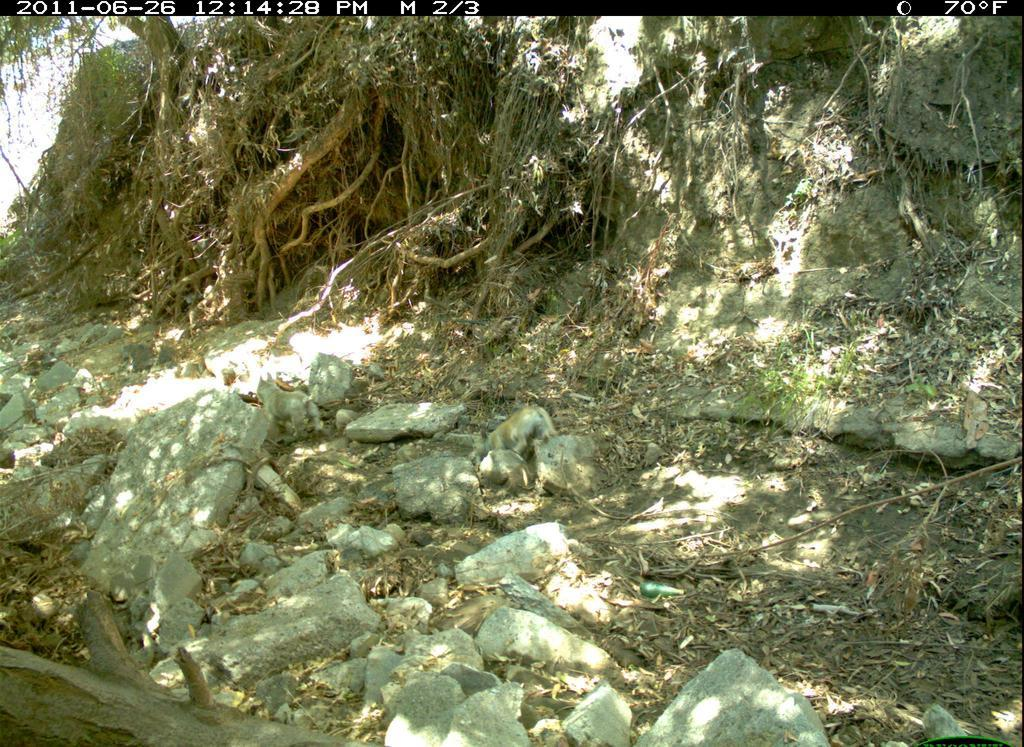dog: (450, 396, 601, 473), (247, 367, 333, 445)
